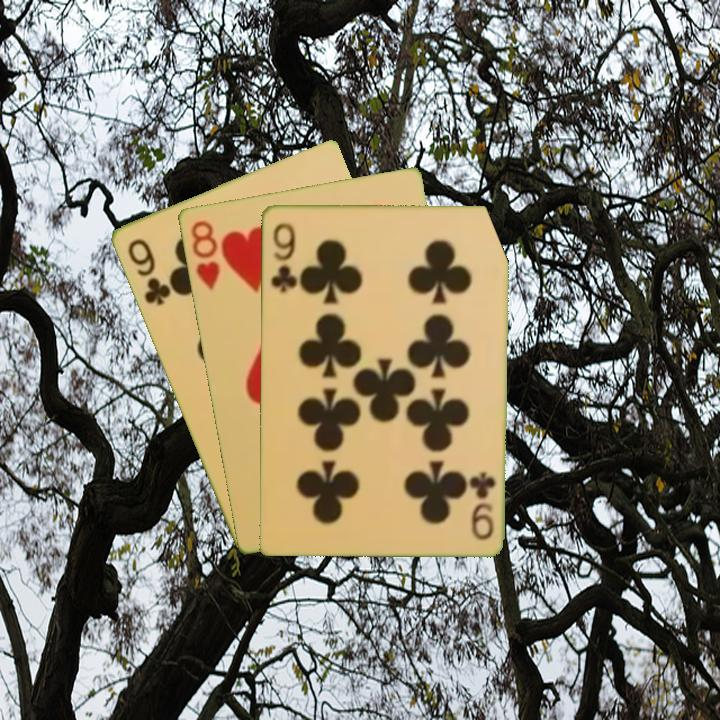8h: (187, 216, 223, 293)
9c: (123, 235, 173, 309), (267, 219, 299, 295), (468, 468, 498, 542)
